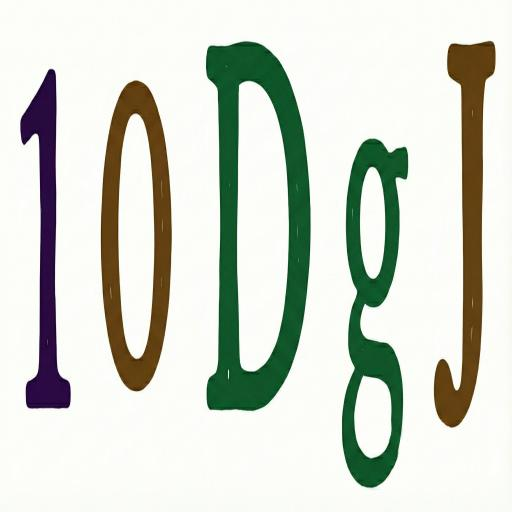0: (98, 62, 174, 412)
1: (16, 52, 76, 422)
D: (202, 34, 314, 429)
J: (432, 26, 498, 440)
g: (339, 128, 409, 492)
